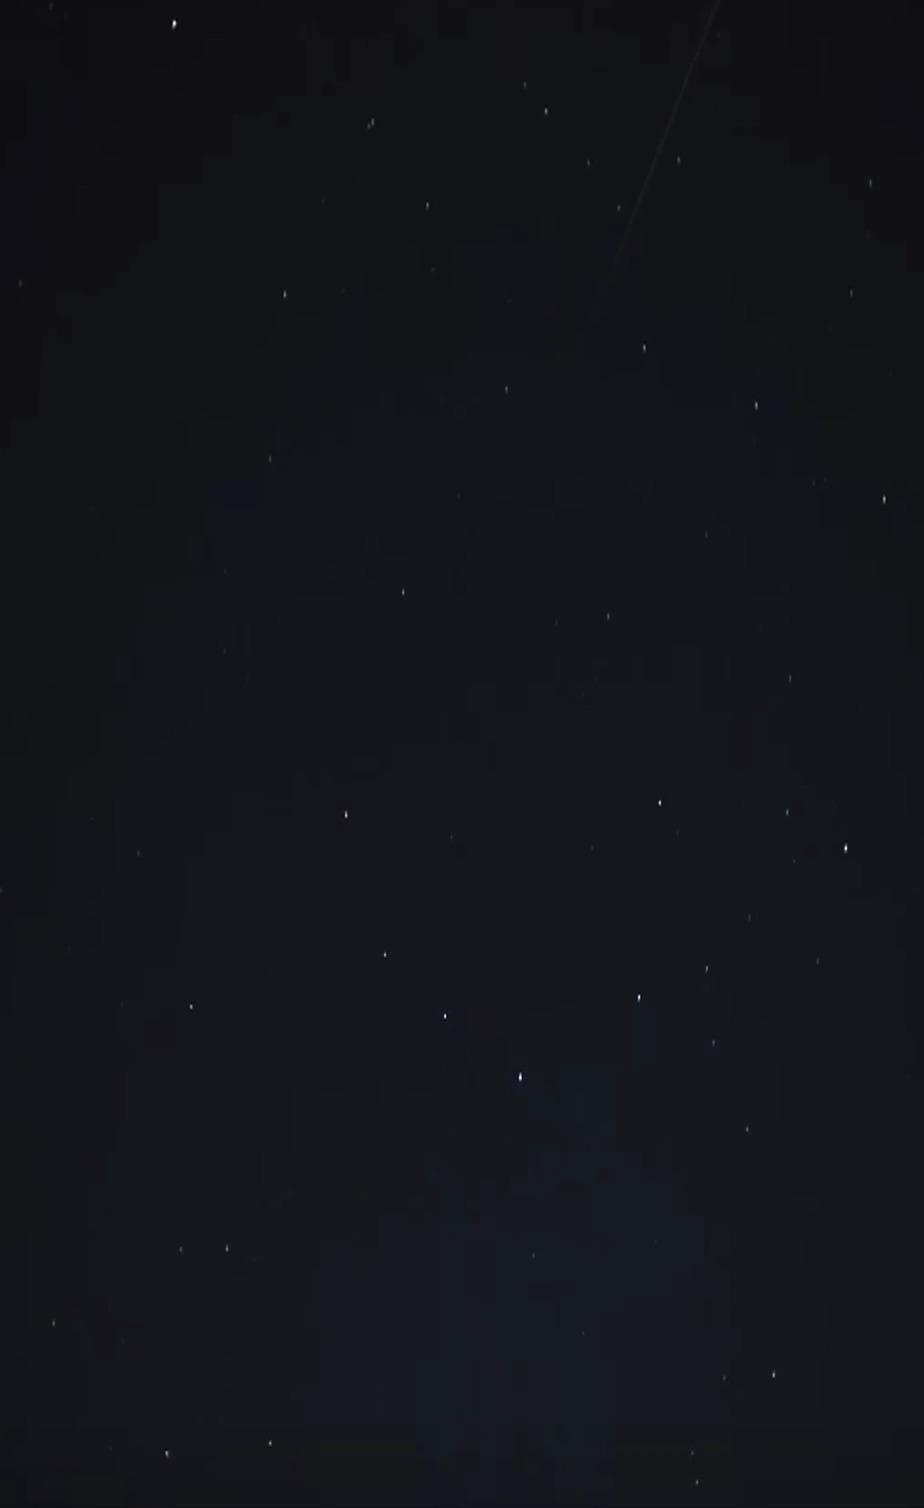meteorite: (568, 0, 740, 287)
